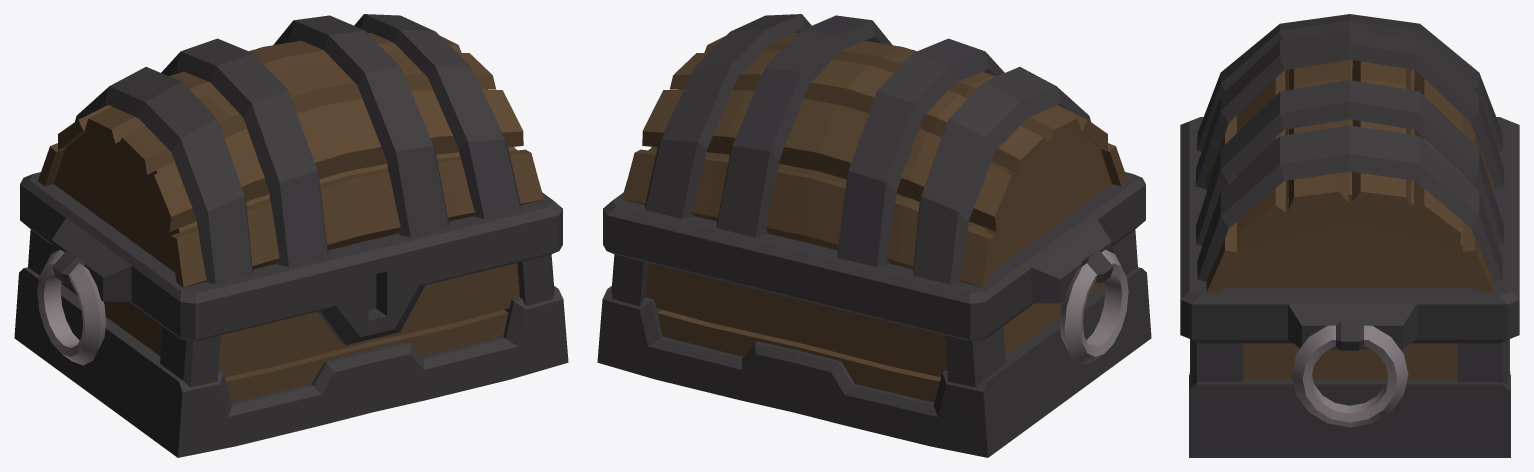
The model's file is Chest.glb.
3 renders of one model, left to right at view 1: azimuth 30°, elevation 25°; view 2: azimuth 150°, elevation 25°; view 3: azimuth 270°, elevation 25°, orthographic.
Visible parts, largest first — view 1: Prop_Chest_Closed; view 2: Prop_Chest_Closed; view 3: Prop_Chest_Closed.
Boxes of the visible parts, bbox=[...] form: Prop_Chest_Closed: bbox=[14, 14, 568, 457]; Prop_Chest_Closed: bbox=[597, 14, 1151, 457]; Prop_Chest_Closed: bbox=[1180, 14, 1519, 457].
Bounding box in the file's own units: 1.39 × 0.8812 × 0.8875.
Materials: 1 (1 with a texture image).
